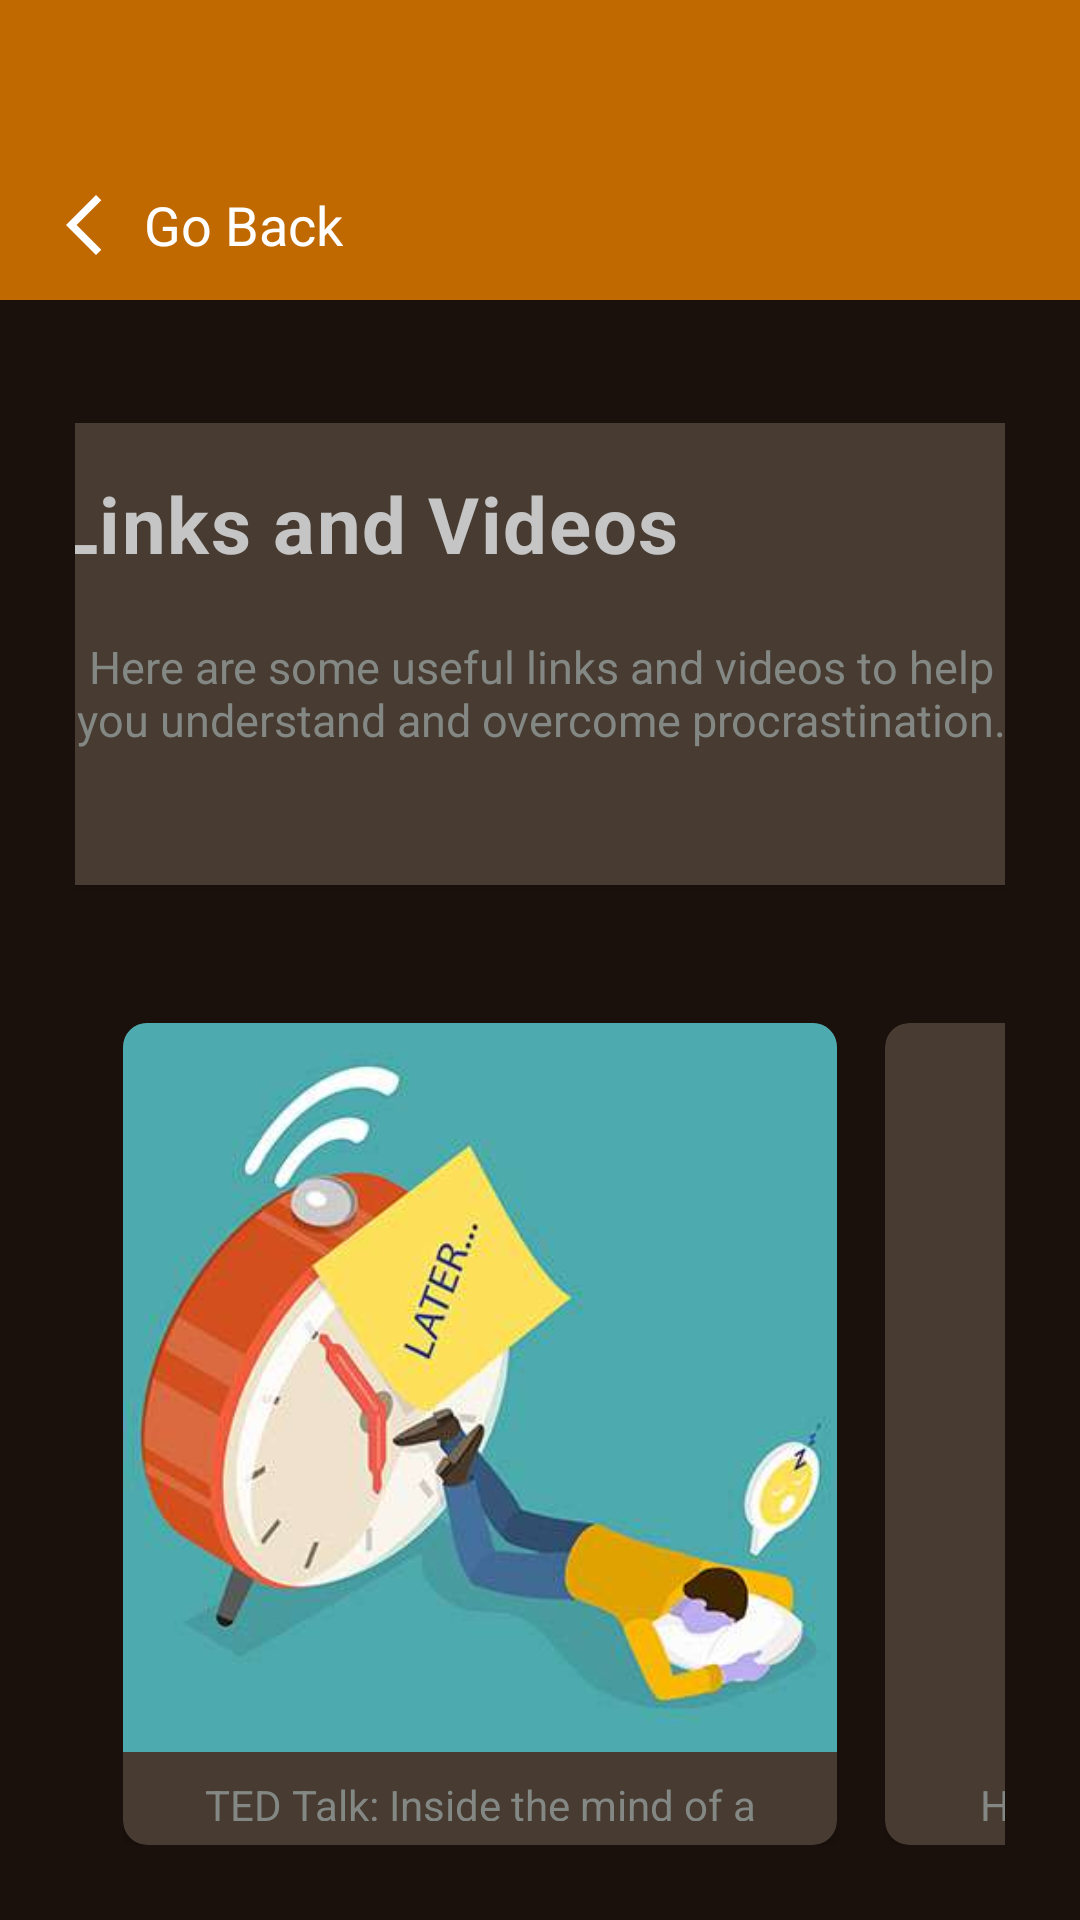

Point at icon controls on the screen. Image size 1080px×1920px, points as (x,y).
arrow left: (83,225)
